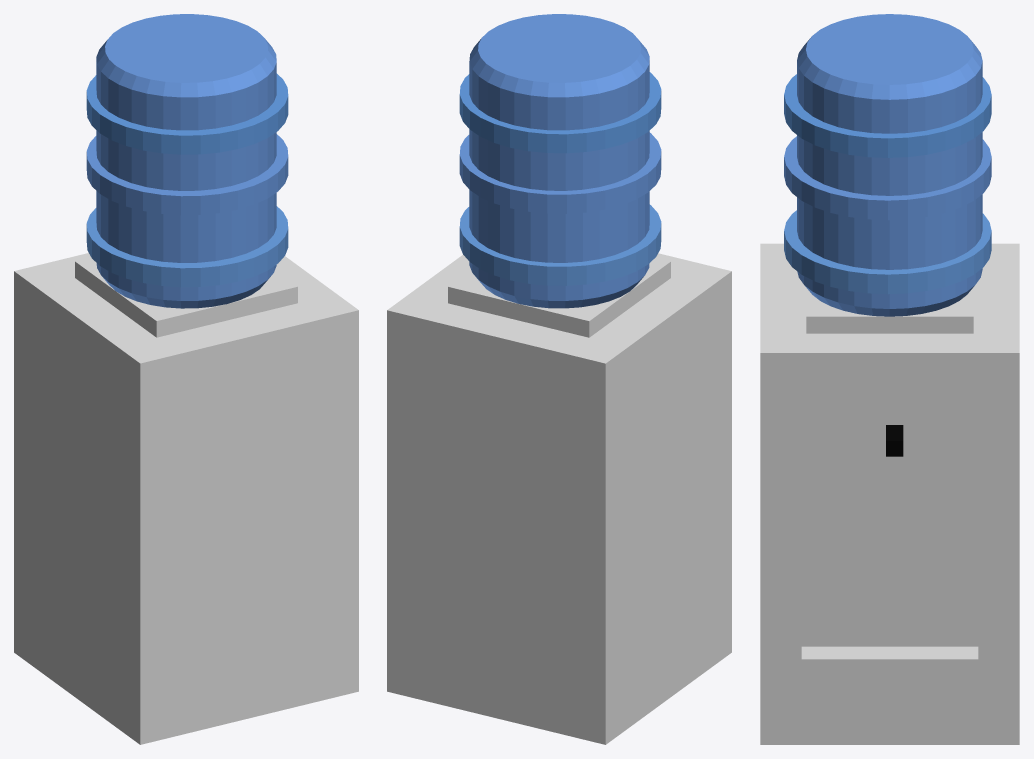
The model's file is Water Dispenser.fbx.
3 views of the same model, side by side, from view 1: azimuth 30°, elevation 25°; view 2: azimuth 150°, elevation 25°; view 3: azimuth 270°, elevation 25° (orthographic). The views are drawn at different scales.
Visible parts, largest first — view 1: Cube.001, Cylinder.004, Cylinder.007, Cylinder.006, Cylinder.005; view 2: Cube.001, Cylinder.004, Cylinder.006, Cylinder.005, Cylinder.007; view 3: Cube.001, Cylinder.004, Cylinder.007, Cylinder.006, Cylinder.005, Cube.002.
Part boxes in pixels (box(x1,y1,x2,y2)): Cube.001: box(14, 253, 358, 744); Cylinder.004: box(96, 14, 276, 308); Cylinder.007: box(86, 73, 288, 154); Cylinder.006: box(86, 134, 288, 215); Cylinder.005: box(86, 206, 288, 287); Cube.001: box(387, 253, 731, 744); Cylinder.004: box(469, 14, 649, 308); Cylinder.006: box(459, 132, 661, 213); Cylinder.005: box(459, 204, 661, 285); Cylinder.007: box(459, 72, 661, 153); Cube.001: box(760, 243, 1019, 744); Cylinder.004: box(797, 14, 982, 316); Cylinder.007: box(784, 74, 991, 157); Cylinder.006: box(784, 136, 991, 220); Cylinder.005: box(784, 210, 991, 294); Cube.002: box(886, 425, 903, 456).
Bounding box in the file's own units: 155 × 409 × 150.
